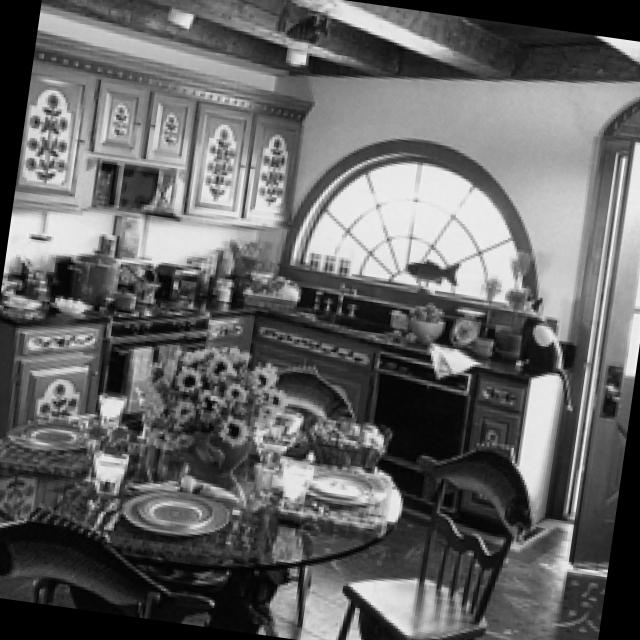2001: (306, 165, 528, 296)
basket crop: (312, 419, 395, 469)
basket occluded: (246, 273, 307, 311)
bouquet: (135, 347, 291, 485)
cabinet door: (18, 31, 318, 223), (18, 34, 318, 223), (215, 314, 378, 415), (463, 370, 568, 522), (0, 316, 108, 433)
ceiling beam: (48, 0, 640, 77)
chair: (285, 364, 355, 429)
chair -occluded-: (338, 447, 535, 640)
chair crop: (0, 504, 220, 619)
coffee maker: (162, 260, 206, 306)
counter bottom: (373, 323, 561, 379), (162, 288, 266, 315)
dish towels: (441, 342, 486, 375)
dishwaher: (373, 346, 475, 504)
door bars: (573, 138, 640, 570)
door mat: (602, 366, 626, 415)
fruit plate: (414, 306, 449, 346)
glass ceiling: (97, 453, 134, 496), (289, 457, 313, 507), (103, 390, 130, 428), (220, 276, 238, 298)
jars: (312, 251, 355, 274)
microwave oven: (96, 158, 182, 211)
oven cloth: (105, 310, 213, 393)
place mat: (61, 482, 271, 560), (288, 460, 394, 526), (0, 411, 112, 471)
plant -x: (498, 250, 538, 358), (477, 274, 506, 357)
plate food: (127, 489, 233, 531), (302, 472, 393, 507), (14, 420, 94, 449), (55, 297, 95, 313), (8, 294, 47, 309)
pot hanger: (77, 249, 124, 297), (118, 282, 142, 307)
scale: (451, 305, 491, 344)
sink basin: (287, 305, 393, 330)
sink occluded: (314, 279, 365, 313)
stove burner: (57, 253, 205, 339)
table -X: (0, 406, 402, 565)
utensils: (92, 497, 126, 527)
